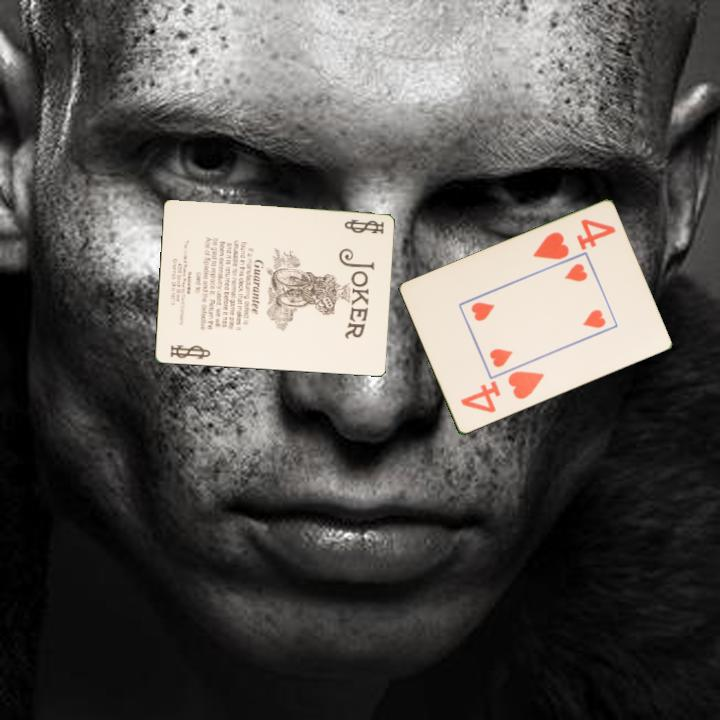4h: (457, 368, 547, 416), (529, 215, 619, 263)
JK: (166, 341, 213, 363), (341, 216, 387, 237)
